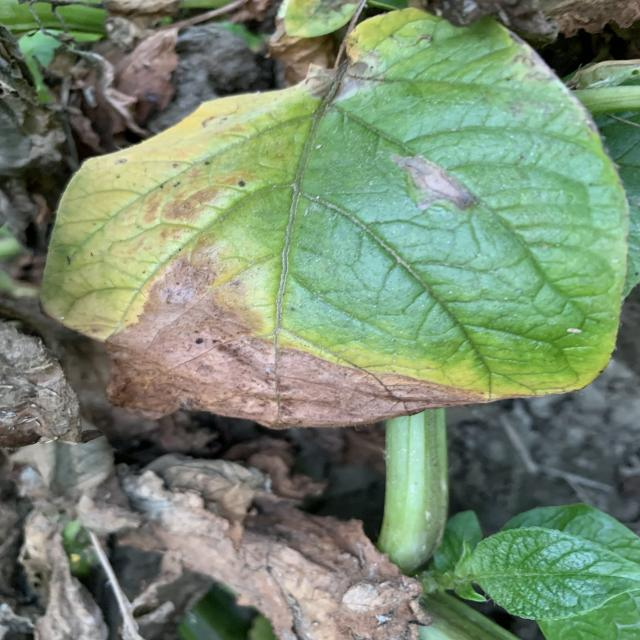lateblight: (105, 258, 490, 429), (390, 155, 475, 210)
